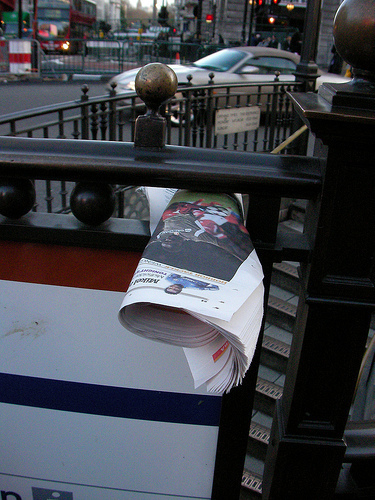litter: (123, 186, 265, 394)
